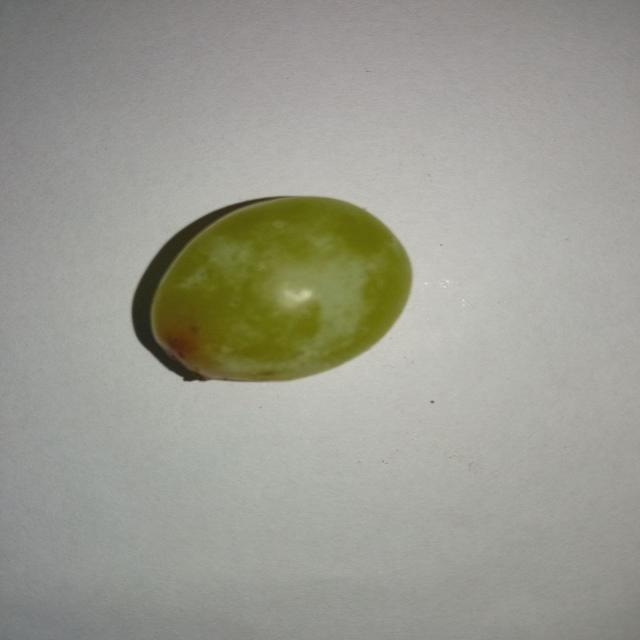fresh_grape: (148, 196, 418, 382)
